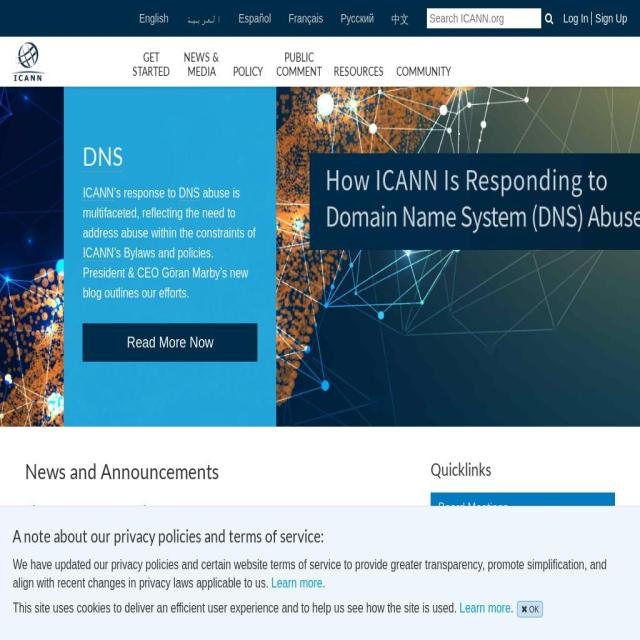button: (25, 502, 419, 524), (83, 323, 258, 362), (431, 528, 615, 562), (431, 565, 615, 598), (431, 602, 615, 635), (431, 493, 615, 525), (451, 38, 549, 88), (264, 25, 321, 87), (384, 39, 451, 88), (120, 25, 170, 87), (170, 25, 220, 87), (321, 39, 384, 88), (220, 39, 264, 88), (10, 42, 48, 86), (180, 2, 228, 34), (282, 2, 329, 34), (334, 2, 381, 34), (232, 2, 277, 34), (133, 2, 175, 34), (385, 2, 416, 36), (431, 638, 615, 640)
field: (427, 8, 542, 28), (542, 12, 558, 25)
heading: (12, 523, 628, 551), (25, 460, 419, 486), (25, 502, 419, 524), (82, 112, 248, 140), (431, 460, 615, 481), (82, 145, 124, 172)
image: (25, 536, 163, 640), (10, 42, 48, 82)
link: (438, 573, 503, 589), (459, 601, 512, 615), (271, 576, 323, 590), (594, 12, 628, 25), (563, 12, 589, 25)
text: (12, 558, 608, 590), (172, 538, 370, 606), (82, 186, 256, 240), (172, 592, 364, 640), (83, 246, 248, 300), (12, 601, 460, 615), (463, 52, 548, 64), (464, 66, 544, 78), (114, 186, 179, 200), (502, 574, 556, 588), (272, 592, 303, 608), (82, 186, 114, 201), (82, 246, 114, 261), (178, 186, 200, 201), (529, 604, 539, 614), (510, 601, 514, 615), (322, 576, 325, 590)
